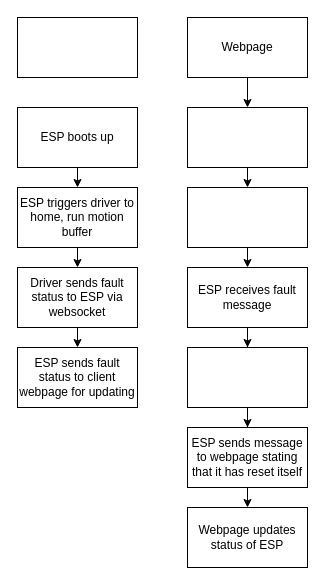
This 325x585 diagram has some shape labels left out. The centre of each missing label's shape, as x and y in pixels:
"ESP" belongs at pixel 77 47.
"ESP resets itself" belongs at pixel 247 377.
"Person clicks on reset button for a ESP" belongs at pixel 247 137.
"Reset message sent to ESP" belongs at pixel 247 217.
